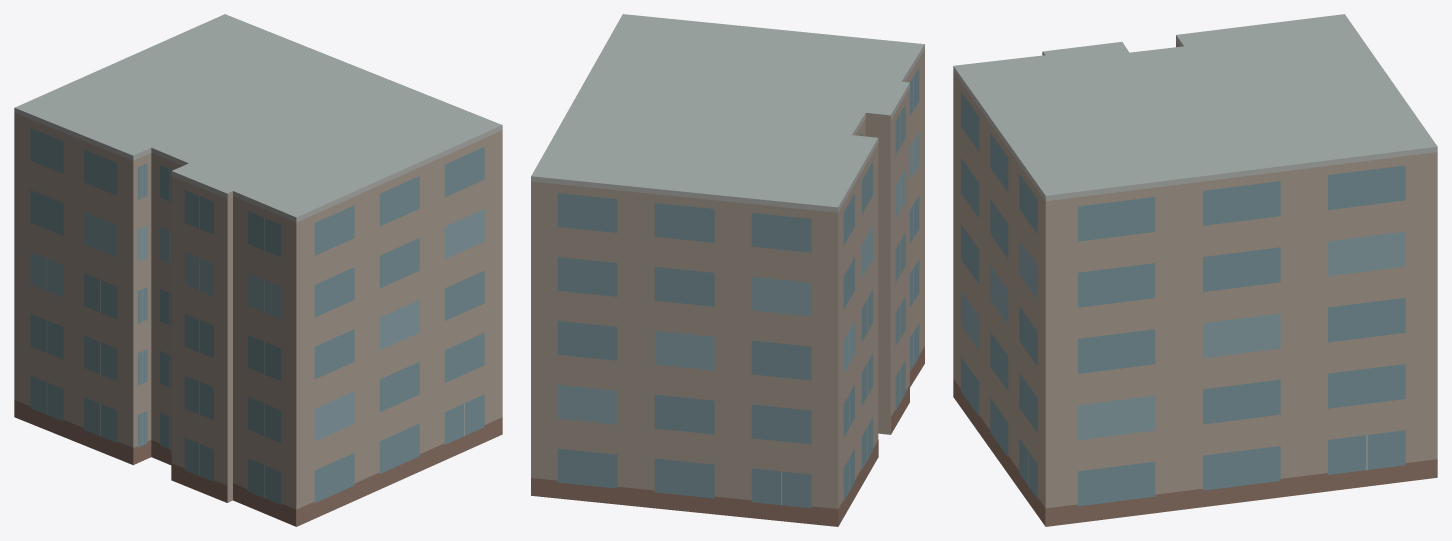
File: survey-upis-32950934.glb
3 renders of one model, left to right at view 1: azimuth 30°, elevation 25°; view 2: azimuth 150°, elevation 25°; view 3: azimuth 270°, elevation 25°, orthographic. The views are drawn at different scales.
Parts seen in each view (by area): view 1: survey-upis-32950934.tmp; view 2: survey-upis-32950934.tmp; view 3: survey-upis-32950934.tmp.
Boxes of the visible parts, x1,y1,x2,y2 form: survey-upis-32950934.tmp: (14,14,502,526); survey-upis-32950934.tmp: (531,14,924,526); survey-upis-32950934.tmp: (953,14,1437,526).
Size of the model in its own units: 17.45 by 14.8 by 19.64.
